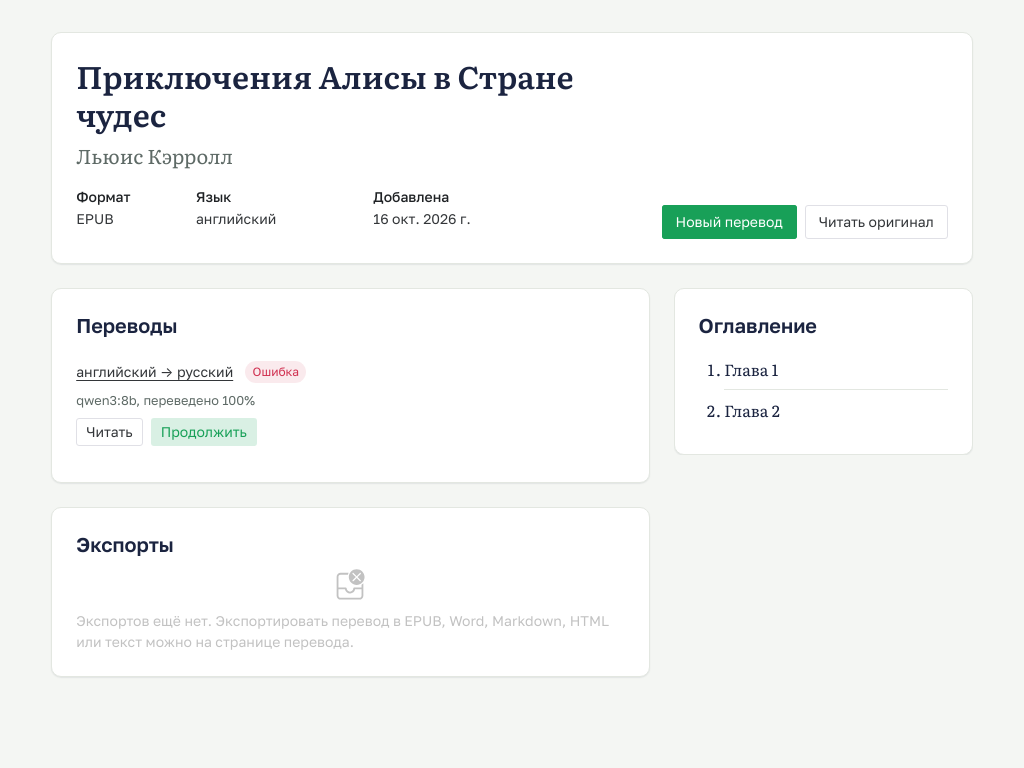
Scenario: страница книги › «Продолжить» возобновляет приостановленный или упавший перевод (ТЗ §8.2)
This screenshot has width=1024, height=768.
What coordinates should you click on to do the following:
click the button with class "resume"
I would click on:
 (204, 432)
Its box is [151, 418, 257, 446].
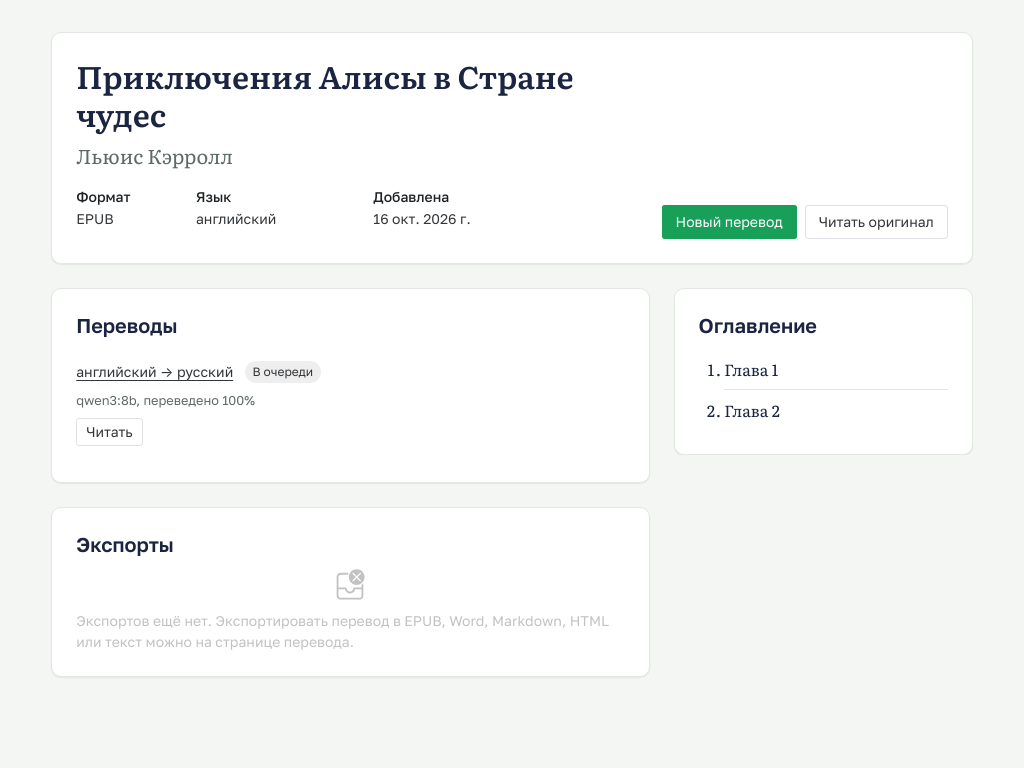
Expected: the list item that starts with "английский → русский" shows "В очереди", [252, 364, 313, 379]
